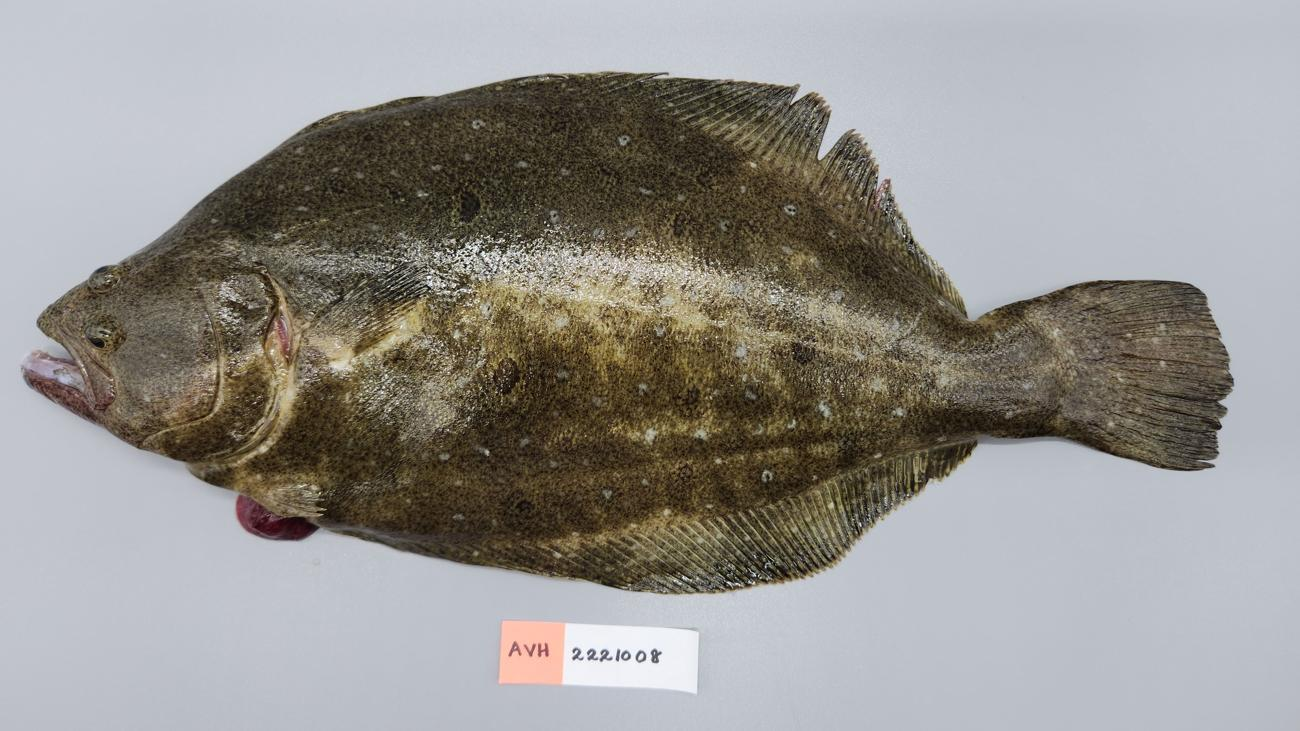VIFAH: (472, 539, 693, 593)
VIFCH: (1088, 292, 1235, 437)
VIFDH: (873, 165, 898, 263)
VIOUY: (21, 70, 1233, 592)
